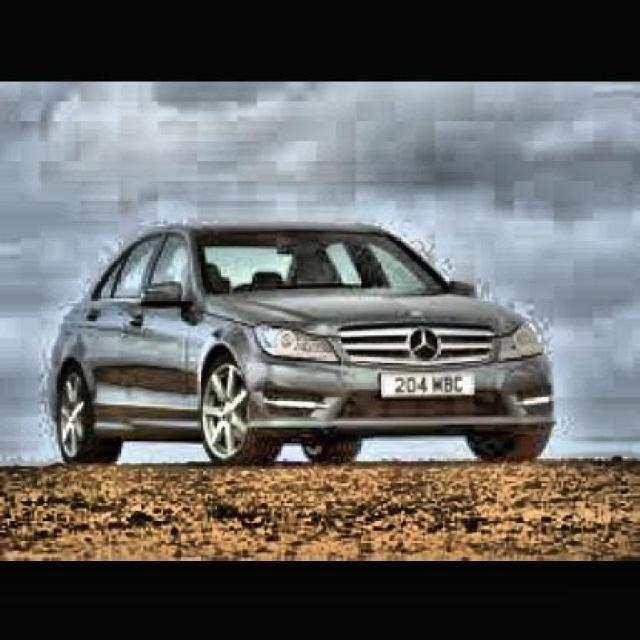black: (40, 209, 550, 479)
